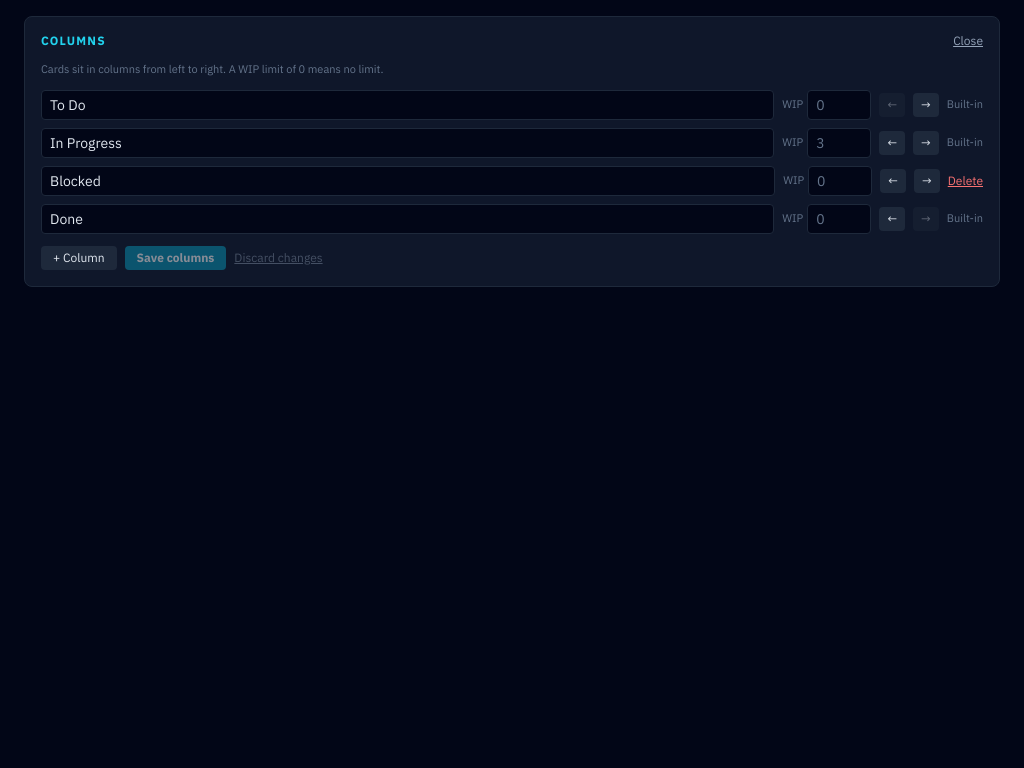
Test: ColumnManager › shows the backend refusal when a card arrived in the column meanwhile
Step 1. Click the button with aria-label "Delete column Blocked" → (965, 180), box [948,172,983,188]
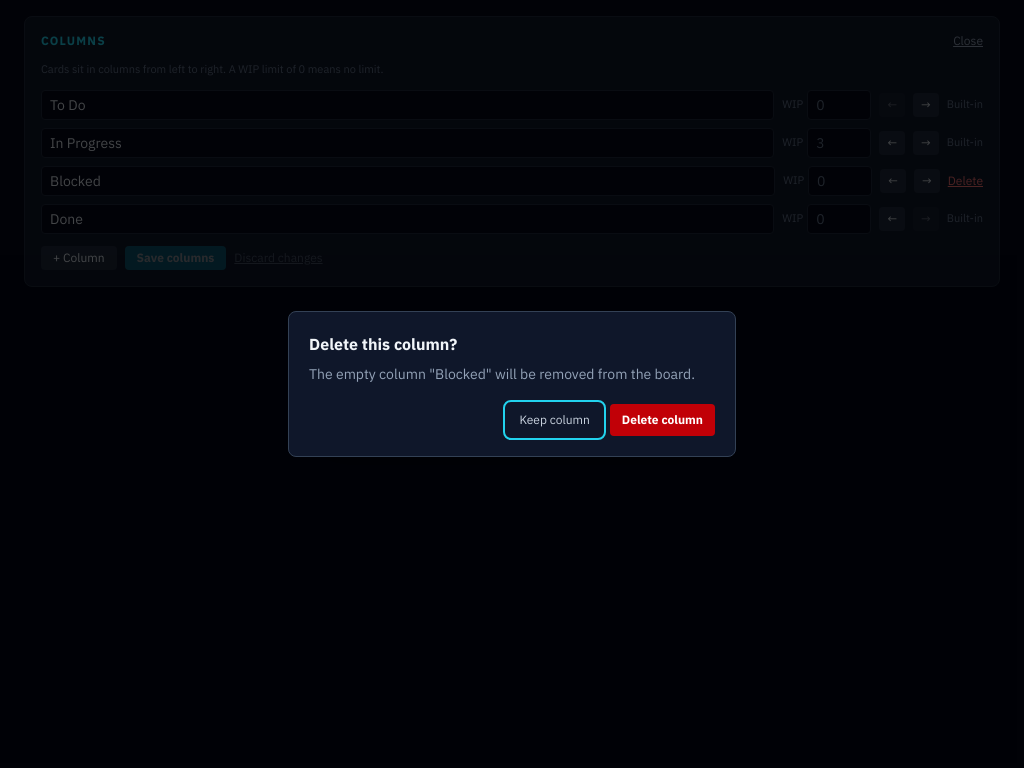
Step 2. Click the button "Delete column" → (662, 420), box [610,404,715,436]
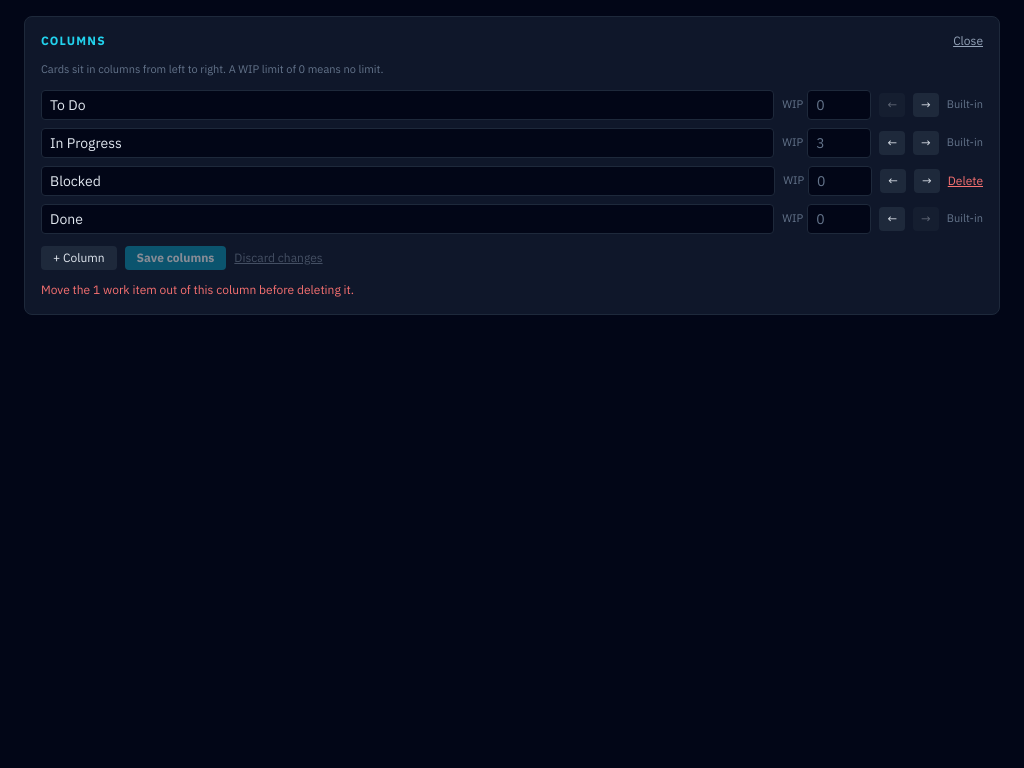
Check: the message reads "Move the 1 work item out of this column before deleting it.", box [41,282,354,296]
